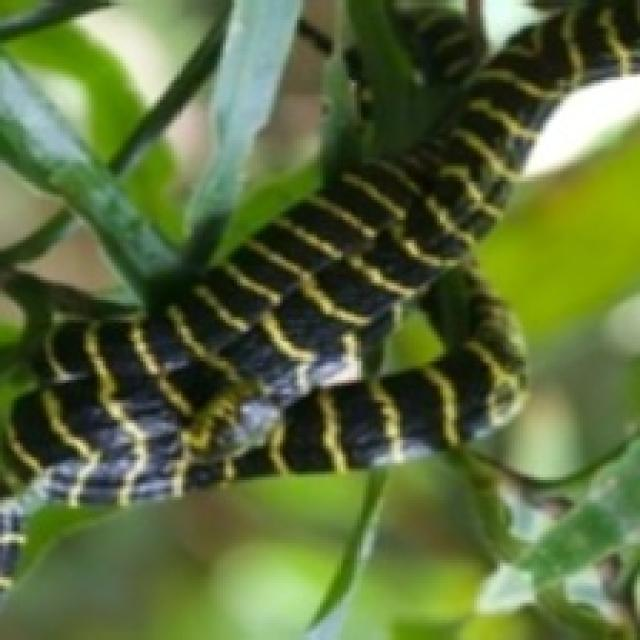mangrove cat snake: (0, 4, 636, 576)
